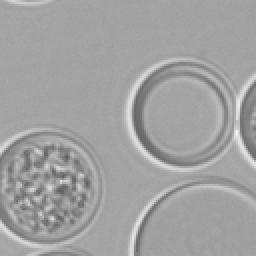picoshell: (0, 128, 104, 246), (124, 58, 234, 168), (128, 178, 254, 254), (238, 74, 254, 166), (28, 246, 90, 254), (4, 0, 52, 4)
